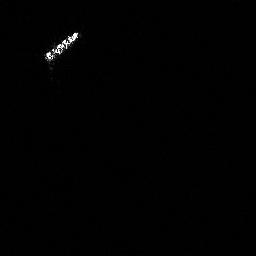ship: (41, 29, 82, 64)
